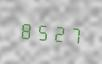eight: (18, 17, 33, 42)
five: (34, 18, 49, 43)
seven: (66, 21, 81, 46)
two: (50, 20, 65, 45)
